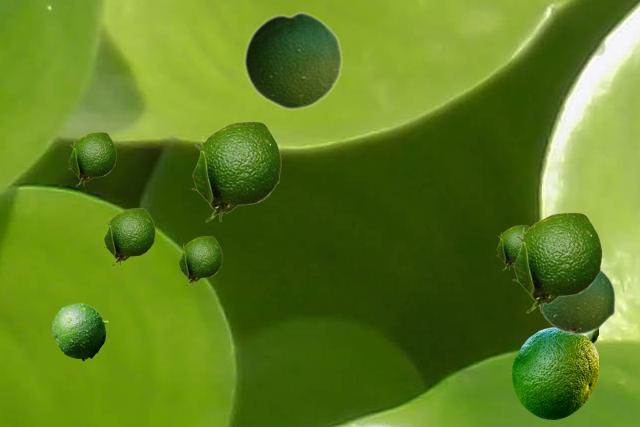dalandan: (243, 11, 342, 110), (191, 121, 280, 221), (512, 212, 601, 312), (512, 327, 597, 418), (539, 269, 615, 334), (52, 303, 107, 360), (103, 208, 154, 265), (68, 132, 115, 185), (178, 236, 221, 285), (496, 225, 529, 269)
